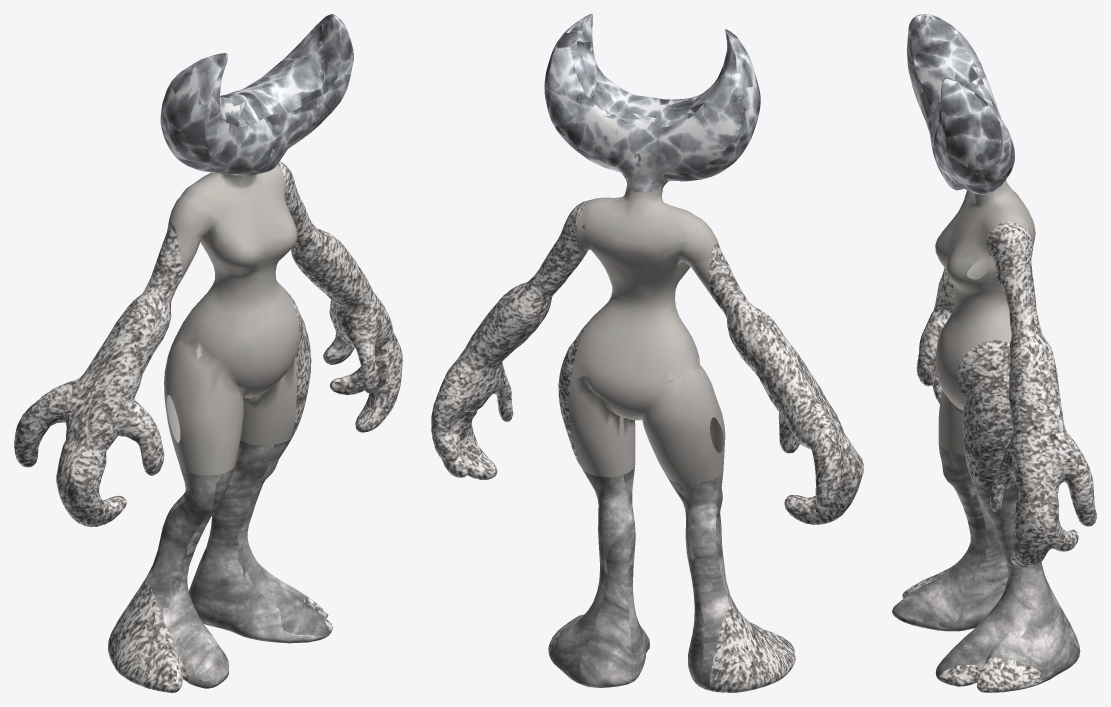
Rendered from 22-curve--stylized_alien_3d_model.glb.
The picture shows the model from 3 angles, left to right: view 1: azimuth 30°, elevation 25°; view 2: azimuth 150°, elevation 25°; view 3: azimuth 270°, elevation 25°; orthographic projection.
Parts seen in each view (by area): view 1: arms_mesh, body_mesh, feet_mesh, head_mesh; view 2: body_mesh, arms_mesh, head_mesh, feet_mesh; view 3: arms_mesh, feet_mesh, head_mesh, body_mesh.
Boxes of the visible parts, x1,y1,x2,y2 form: arms_mesh: [14, 161, 402, 692]; body_mesh: [164, 164, 299, 475]; feet_mesh: [141, 438, 329, 688]; head_mesh: [160, 14, 353, 176]; body_mesh: [569, 184, 725, 483]; arms_mesh: [431, 200, 863, 692]; head_mesh: [544, 14, 760, 192]; feet_mesh: [550, 466, 762, 690]; arms_mesh: [902, 222, 1096, 692]; feet_mesh: [892, 444, 1080, 682]; head_mesh: [906, 14, 1014, 194]; body_mesh: [935, 180, 1035, 483].
Bounding box in the file's own units: 2.01 × 3 × 0.906.
4 materials, 4 textured.
